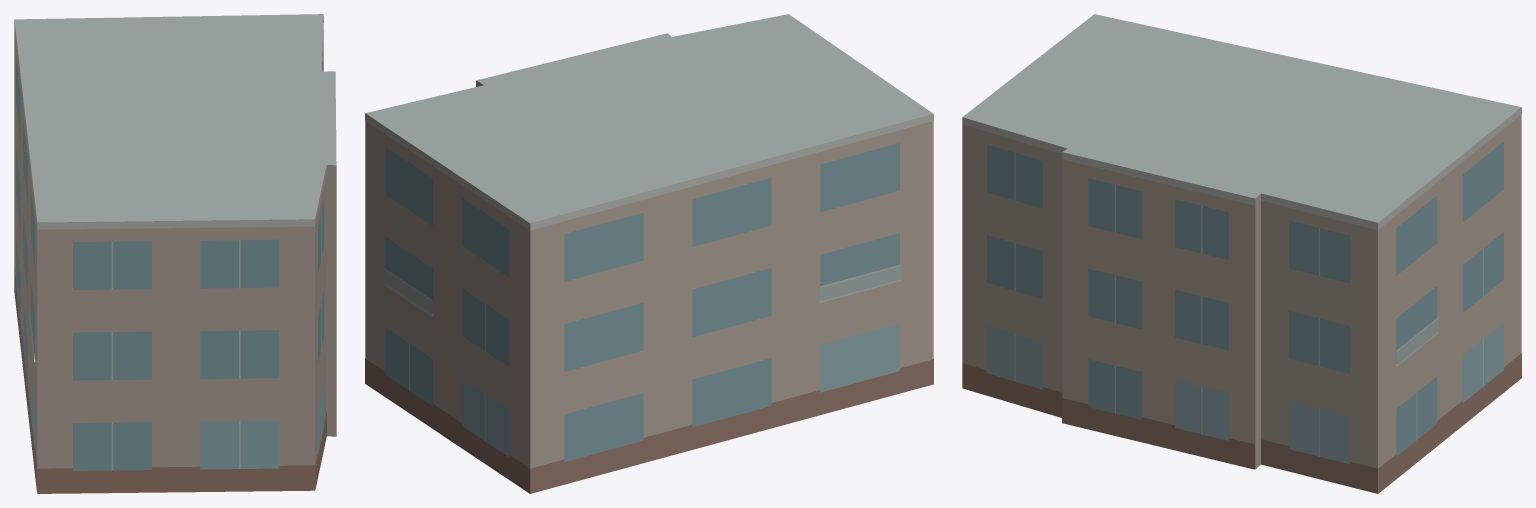
Rendered from survey-upis-32892682.glb.
The picture shows the model from 3 angles, left to right: view 1: azimuth 30°, elevation 25°; view 2: azimuth 150°, elevation 25°; view 3: azimuth 270°, elevation 25°; orthographic projection.
Visible parts, largest first — view 1: survey-upis-32892682.tmp; view 2: survey-upis-32892682.tmp; view 3: survey-upis-32892682.tmp.
Boxes of the visible parts, x1=… form: survey-upis-32892682.tmp: x1=14, y1=14, x2=336, y2=493; survey-upis-32892682.tmp: x1=365, y1=14, x2=933, y2=493; survey-upis-32892682.tmp: x1=962, y1=14, x2=1521, y2=493.
Bounding box in the file's own units: 15.12 × 9.15 × 17.12.
